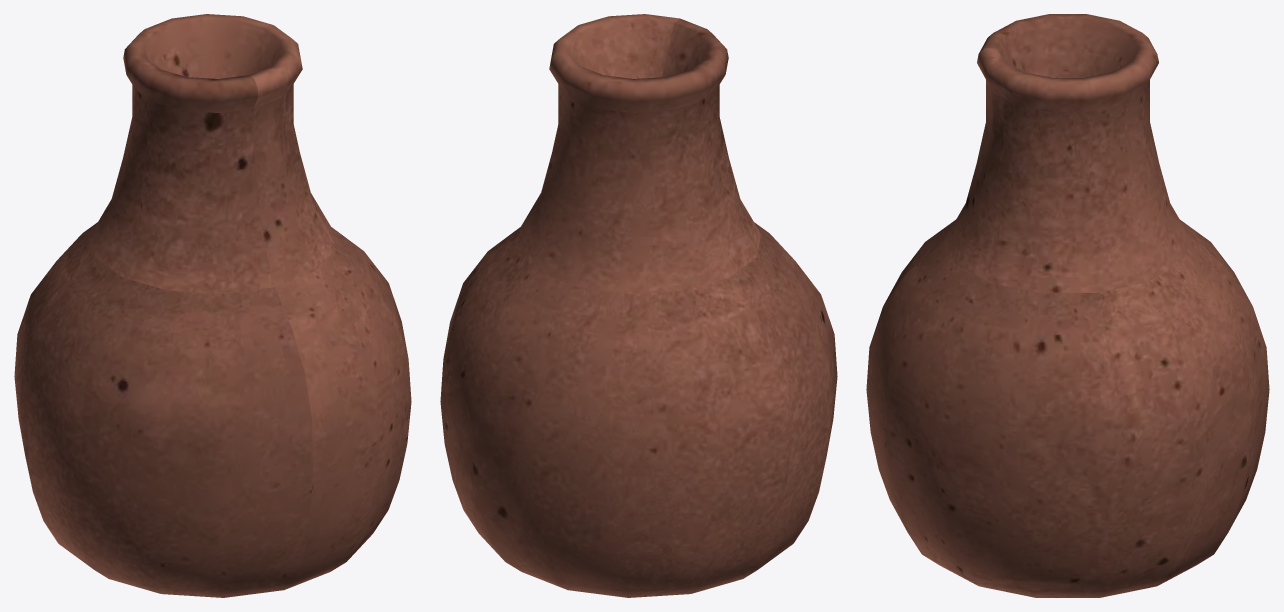
Rendered from Vase_09.glb.
The picture shows the model from 3 angles, left to right: view 1: azimuth 30°, elevation 25°; view 2: azimuth 150°, elevation 25°; view 3: azimuth 270°, elevation 25°; orthographic projection.
Visible parts, largest first — view 1: SM_Vase_09; view 2: SM_Vase_09; view 3: SM_Vase_09.
Part boxes in pixels (x1,y1,x2,y2): SM_Vase_09: [14, 14, 411, 597]; SM_Vase_09: [440, 14, 837, 597]; SM_Vase_09: [866, 14, 1269, 597].
Size of the model in its own units: 0.1626 by 0.2278 by 0.1669.
1 material, 1 textured.
